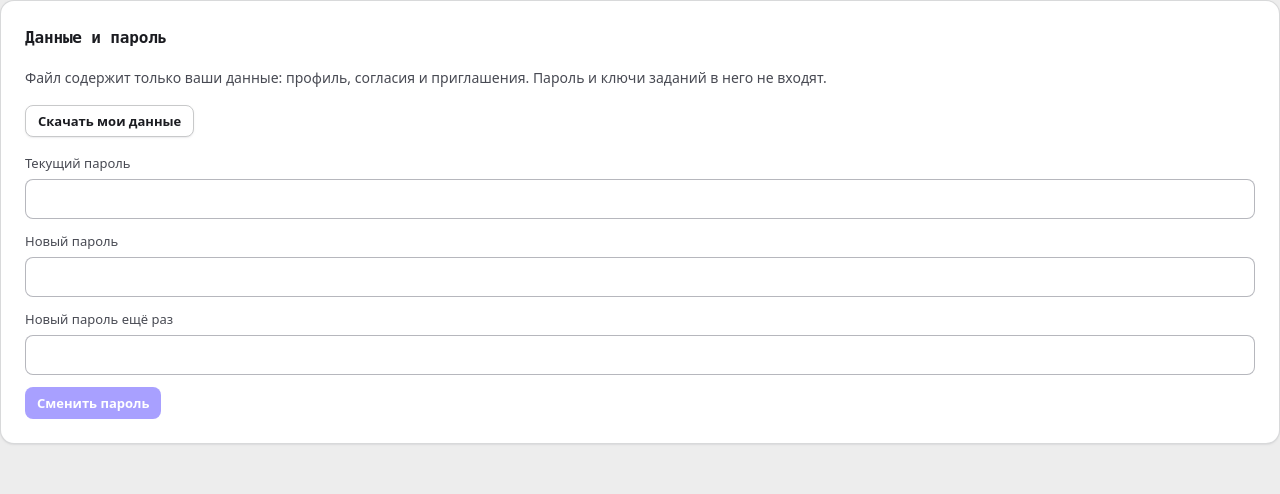
Test: пароль аккаунта › не сохраняет пароль, пока повтор не совпал
The image size is (1280, 494).
Type "old-pass" into the password field labelled "Текущий пароль". click: (640, 199)
box: [25,179,1255,219]
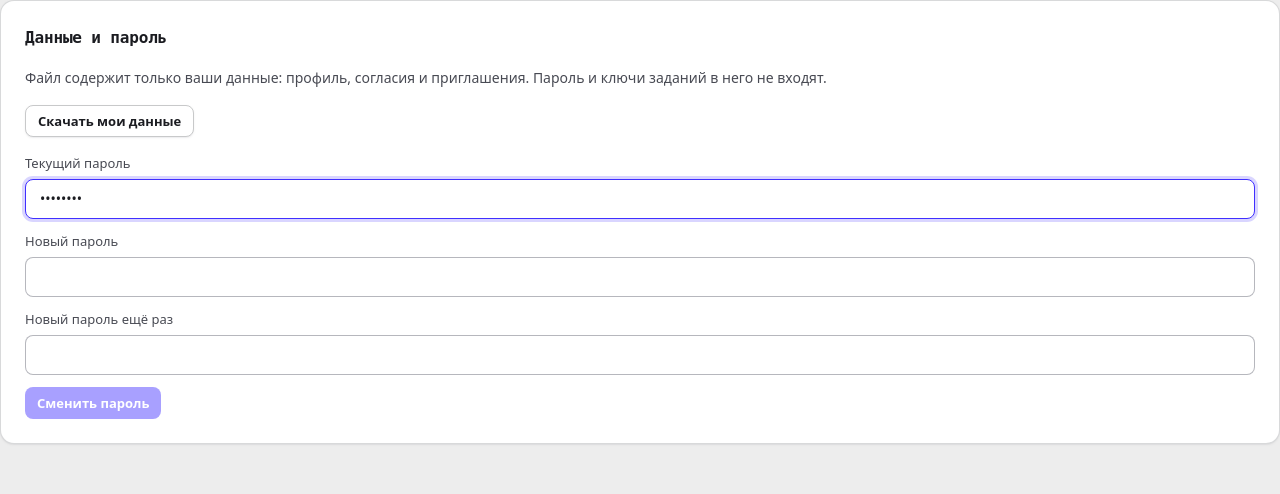
Type "new-pass-1" into the password field labelled "Новый пароль". click: (640, 277)
box: [25,257,1255,297]
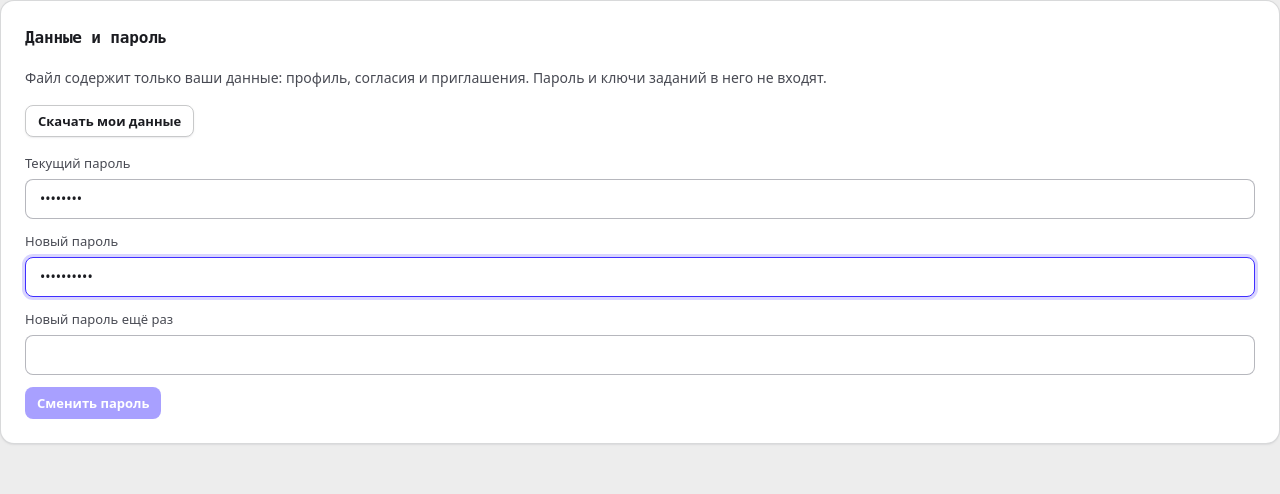
Type "other-pass" into the password field labelled "Новый пароль ещё раз". click: (640, 355)
box: [25,335,1255,375]
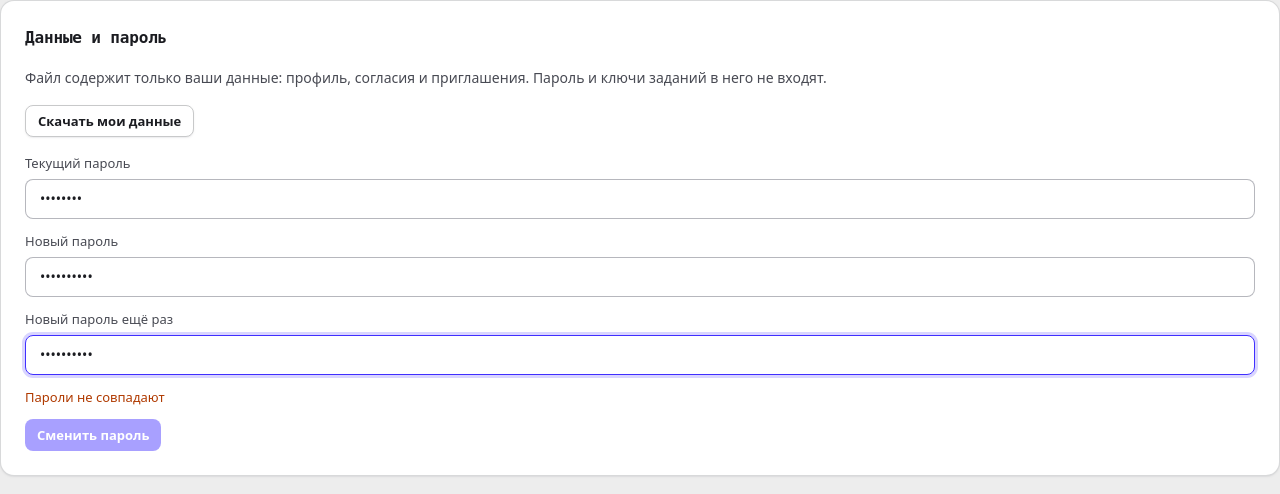
expect the button "Сменить пароль" is disabled: met, box [25,419,161,451]
expect the message reads "Пароли не совпадают": met, box [25,388,165,406]
